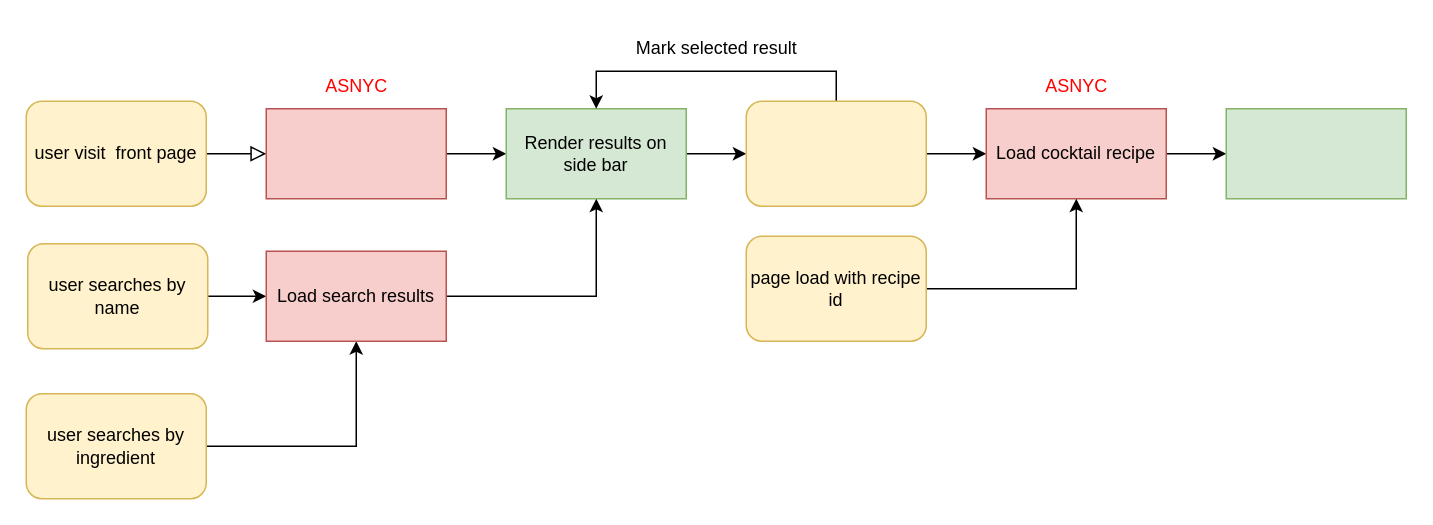
The diagram is 1433 pixels wide and 525 high, and some of its shapes have lost their labels. Here are the shapes that lost their labels. From the top down, the centre of each, then its label:
point 355,153: Load 5 random cocktail
point 835,153: user selects cocktail
point 1315,153: Reder cocktail recipe
